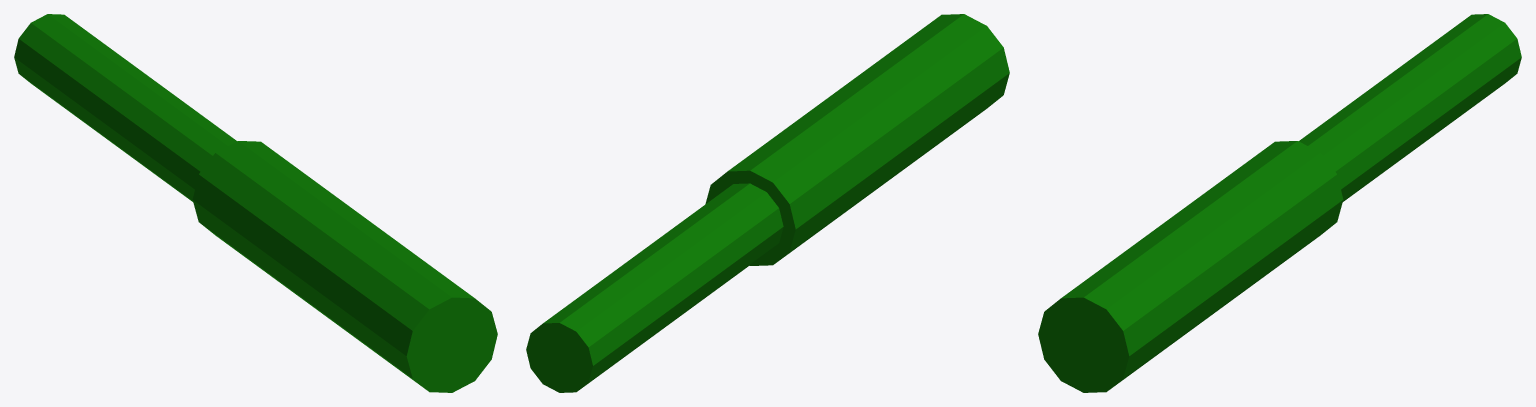
3 renders of one model, left to right at view 1: azimuth 30°, elevation 25°; view 2: azimuth 150°, elevation 25°; view 3: azimuth 330°, elevation 25°, orthographic.
Parts seen in each view (by area): view 1: A100, B100; view 2: A100, B100; view 3: A100, B100.
Part boxes in pixels (x1,y1,x2,y2): A100: (192, 141, 497, 392); B100: (14, 14, 236, 201); A100: (705, 14, 1009, 265); B100: (526, 183, 783, 392); A100: (1038, 141, 1343, 392); B100: (1299, 14, 1521, 201).
Size of the model in its own units: 0.7987 by 6.14 by 0.7987.
